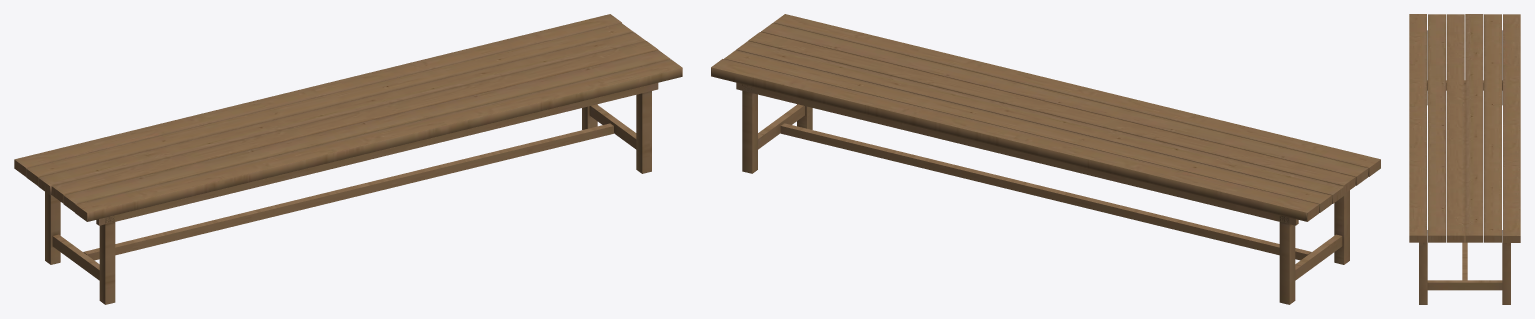
File: long_table.glb
The picture shows the model from 3 angles, left to right: view 1: azimuth 30°, elevation 25°; view 2: azimuth 150°, elevation 25°; view 3: azimuth 270°, elevation 25°; orthographic projection. The views are drawn at different scales.
Visible parts, largest first — view 1: long_table; view 2: long_table; view 3: long_table.
Boxes of the visible parts, x1=… form: long_table: x1=14, y1=14, x2=682, y2=304; long_table: x1=711, y1=14, x2=1380, y2=304; long_table: x1=1409, y1=14, x2=1520, y2=304.
Size of the model in its own units: 4.8 by 0.7909 by 1.02.
1 material, 1 textured.
